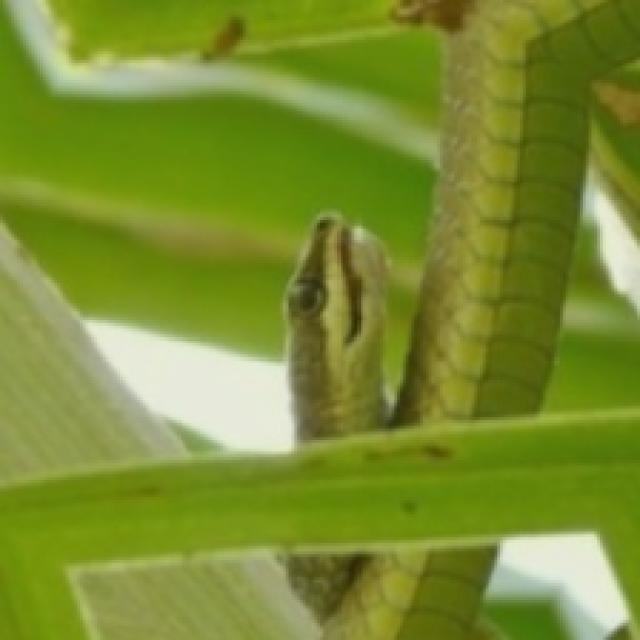paradise tree snake: (391, 0, 637, 423), (286, 214, 386, 442), (326, 546, 494, 637), (285, 551, 370, 621)
